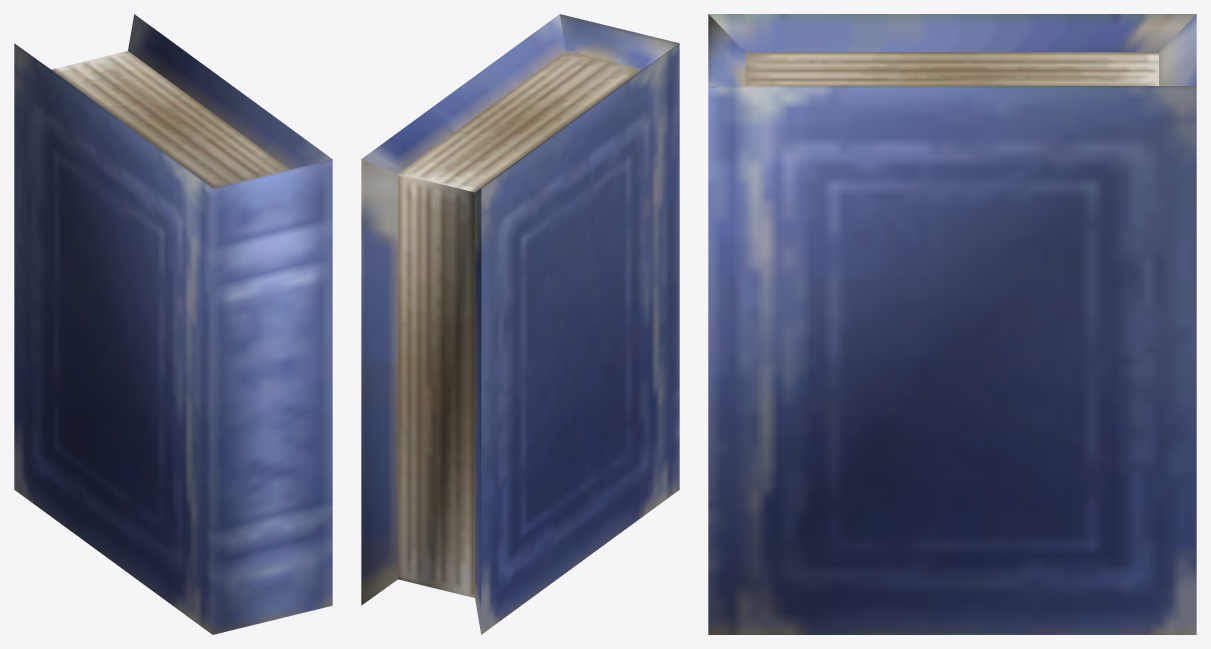
File: booksmall01.obj
3 renders of one model, left to right at view 1: azimuth 30°, elevation 25°; view 2: azimuth 150°, elevation 25°; view 3: azimuth 270°, elevation 25°, orthographic. The views are drawn at different scales.
Visible parts, largest first — view 1: booksmall01; view 2: booksmall01; view 3: booksmall01.
Boxes of the visible parts, x1=… form: booksmall01: x1=14, y1=14, x2=332, y2=634; booksmall01: x1=361, y1=14, x2=679, y2=634; booksmall01: x1=708, y1=14, x2=1196, y2=634.
Bounding box in the file's own units: 0.1179 × 0.4195 × 0.338.
